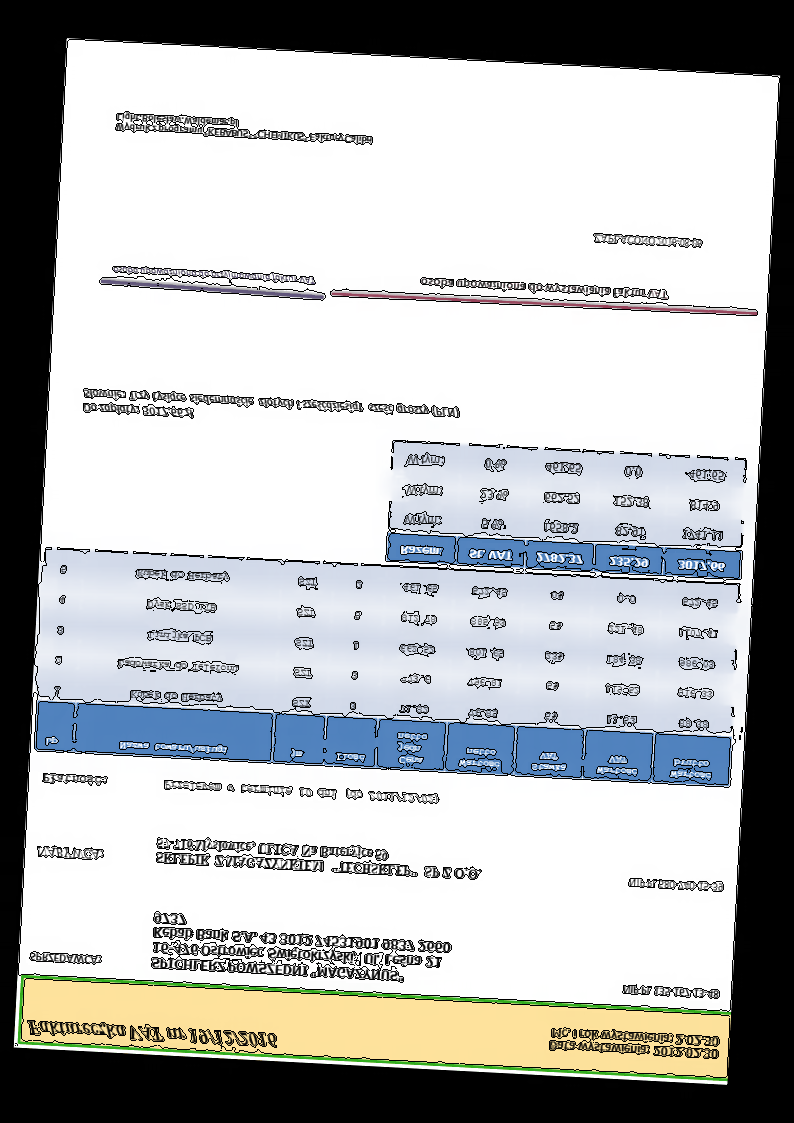Table: (33, 545, 742, 789), (385, 439, 748, 580)
TextBox: (148, 910, 454, 987), (80, 384, 461, 435), (154, 834, 483, 883), (114, 111, 376, 148), (161, 776, 440, 808), (25, 1016, 280, 1051), (418, 274, 668, 303), (547, 1026, 721, 1063), (110, 261, 318, 287), (590, 231, 704, 252), (627, 874, 726, 895), (621, 983, 723, 1003), (33, 843, 106, 865), (28, 949, 102, 968), (40, 771, 111, 789)
